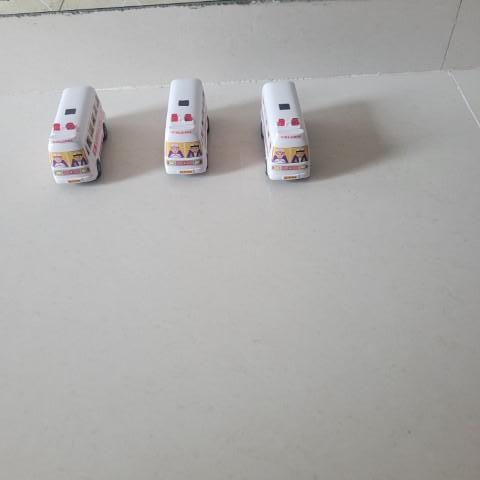ambulance: (42, 80, 109, 188), (255, 78, 317, 186), (164, 78, 212, 176)
